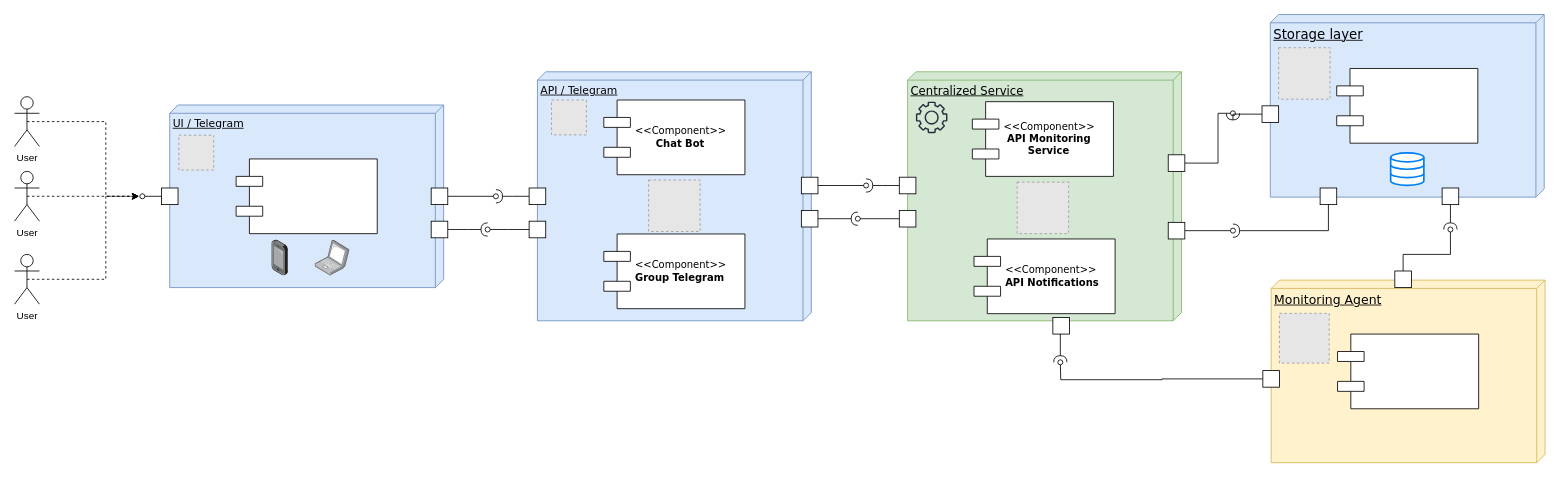
This 1560x477 diagram has some shape labels left out. Grey dashed boxes stand in for pictures. The shapes that lost their labels are listed below. From the top down, each one's centre as x and y in pixels, then its label:
At point 1407,105: "<<Component>> Data Base".
At point 306,196: "<<Component>> Frontend".
At point 1408,371: "<<Component>> Script Monitoring".
